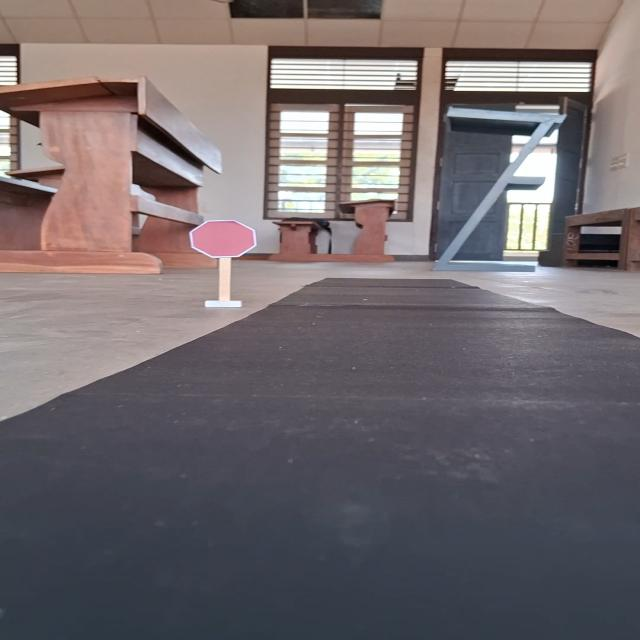Stop: (187, 218, 259, 259)
